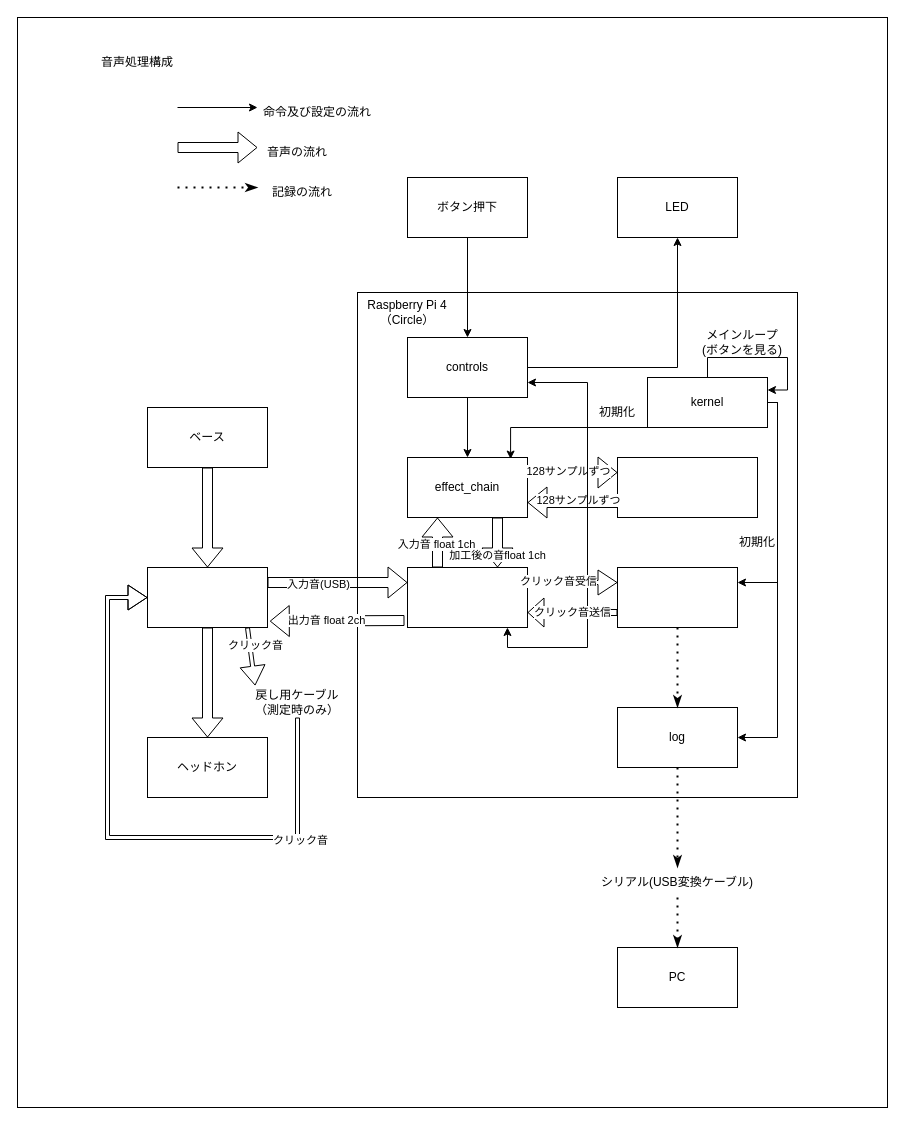
This 905x1125 diagram has some shape labels left out. The shapes that lost their labels are listed below. From the top down, each one's centre as x and y in pixels, then its label:
At (x=687, y=487): "effect (Fuzz,AutoWah,Reverb)".
At (x=207, y=597): "AG03MK2".
At (x=467, y=597): "audio_io".
At (x=677, y=597): "measure".
